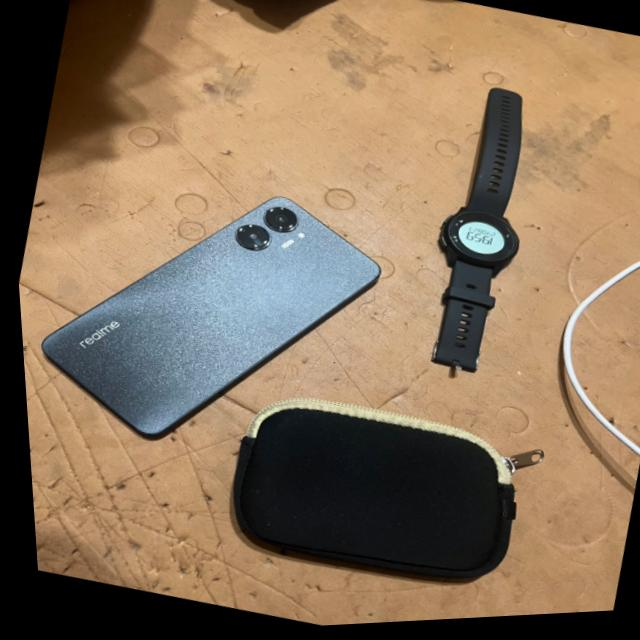Smartphone: (36, 200, 376, 439)
